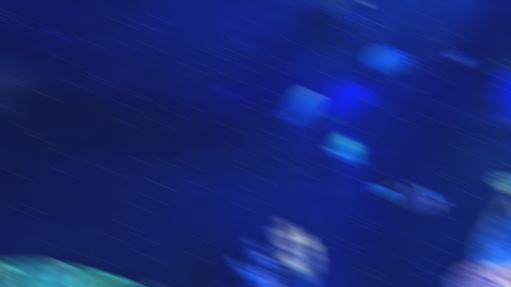Fish: (372, 184, 436, 209), (282, 89, 319, 128), (365, 47, 414, 72), (325, 134, 362, 161), (400, 194, 447, 211), (449, 53, 472, 63), (327, 0, 339, 7)
